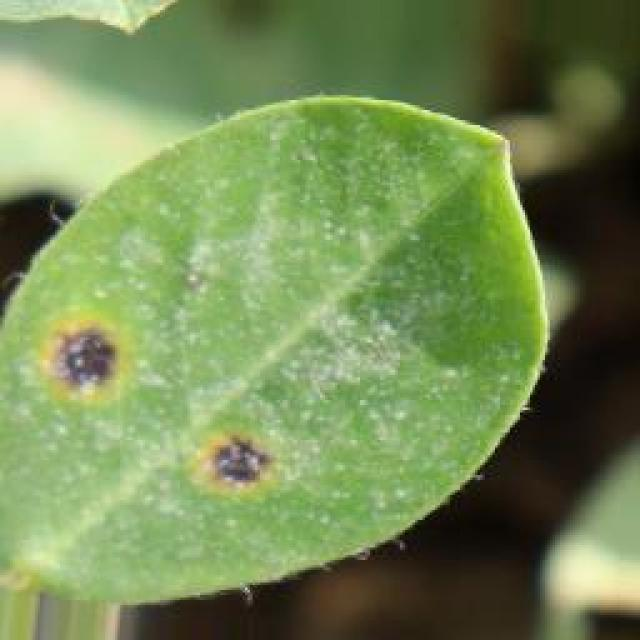Sigatoka: (169, 406, 286, 520), (34, 319, 174, 411)
